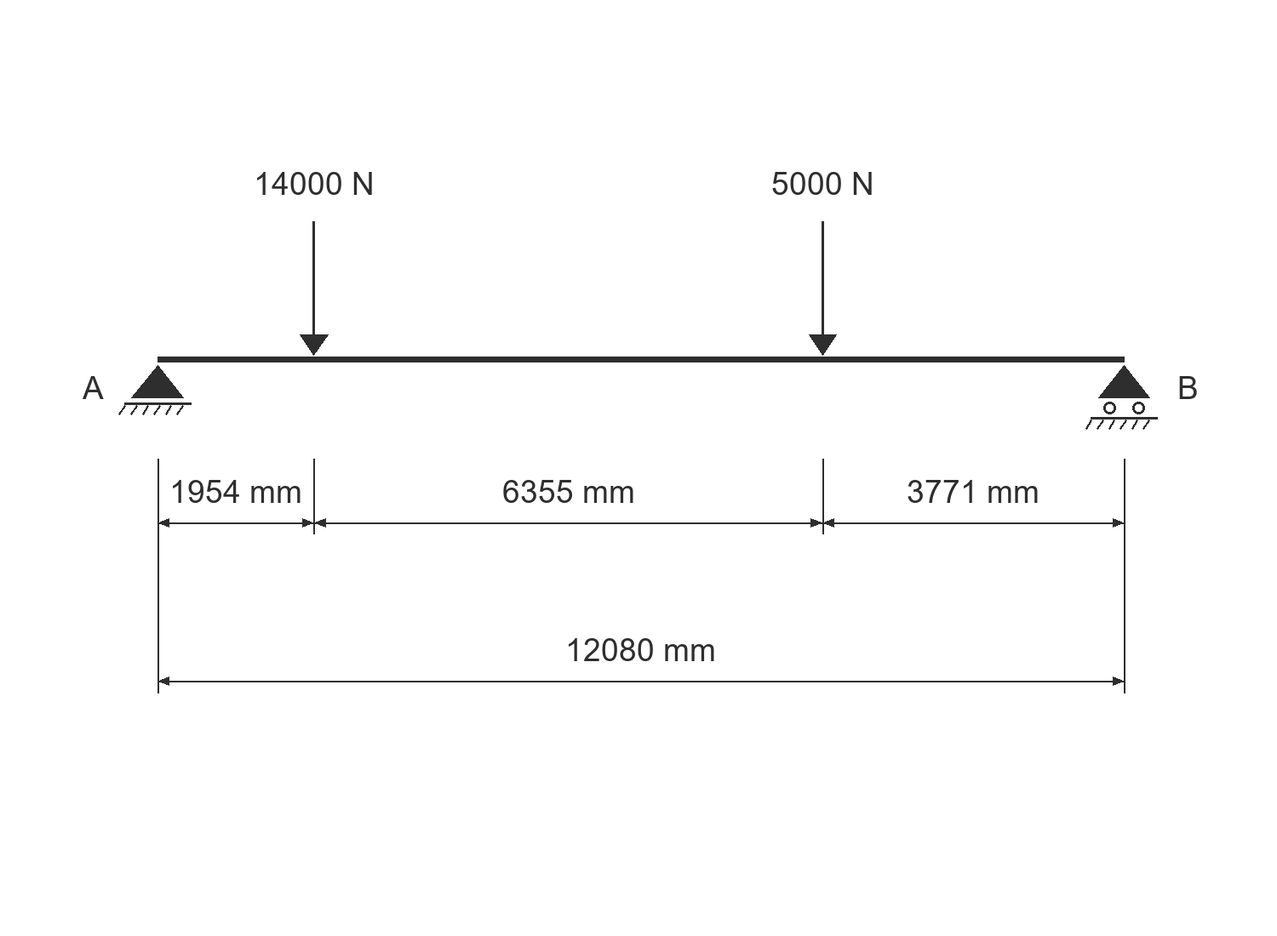pin_support: (118, 365, 192, 415)
point_load: (300, 221, 329, 356), (809, 221, 837, 356)
roller_support: (1085, 365, 1158, 430)
